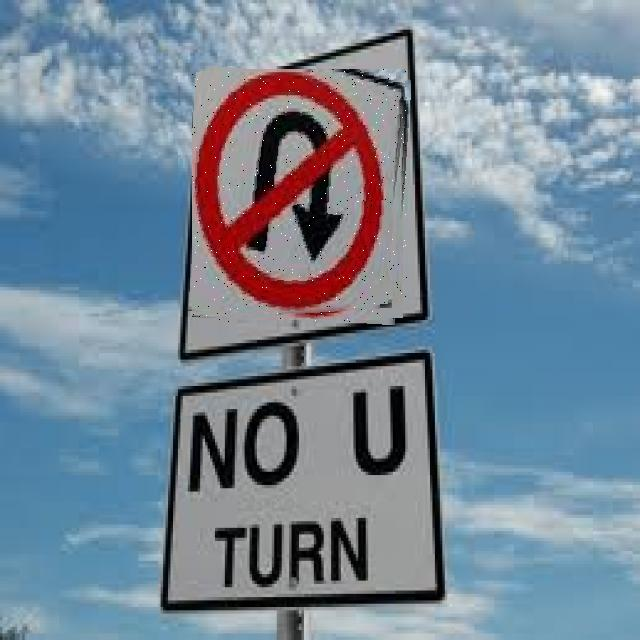no u turn: (192, 69, 407, 322)
